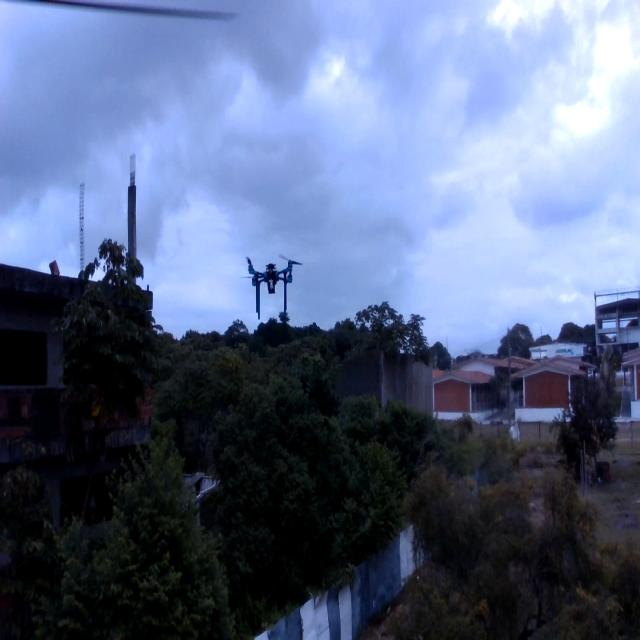-uav-: (234, 246, 308, 323)
